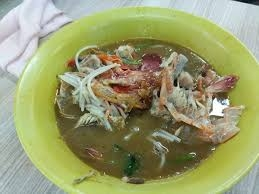kitchen_waste: (63, 56, 121, 131), (157, 67, 210, 127)
